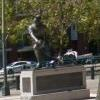Statue: (24, 10, 58, 67)
